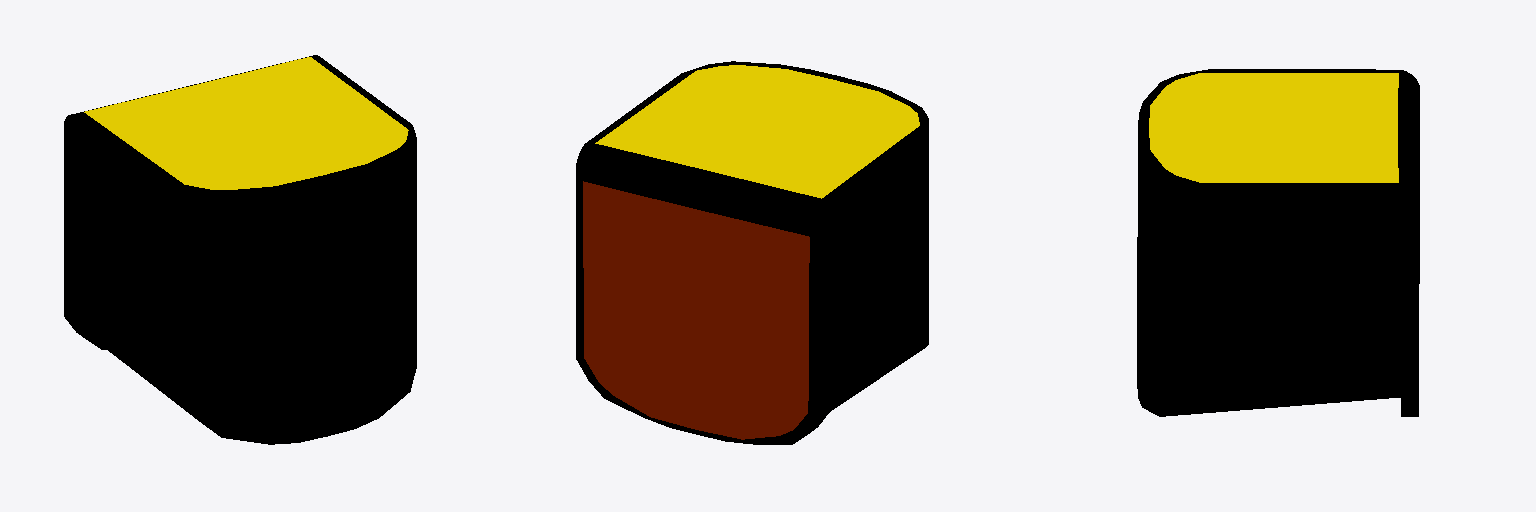
File: edgeYO.obj
3 views of the same model, side by side, from view 1: azimuth 30°, elevation 25°; view 2: azimuth 150°, elevation 25°; view 3: azimuth 270°, elevation 25° (orthographic).
Parts seen in each view (by area): view 1: BasicEdge_Plane.006, EdgeSide1_Plane.008; view 2: EdgeSide2_Plane.009, BasicEdge_Plane.006, EdgeSide1_Plane.008; view 3: BasicEdge_Plane.006, EdgeSide1_Plane.008.
Boxes of the visible parts, box(x1,y1,x2,y2) form: BasicEdge_Plane.006: box(64, 55, 416, 444); EdgeSide1_Plane.008: box(84, 57, 408, 189); EdgeSide2_Plane.009: box(583, 181, 809, 439); BasicEdge_Plane.006: box(576, 61, 928, 444); EdgeSide1_Plane.008: box(595, 65, 919, 198); BasicEdge_Plane.006: box(1137, 69, 1419, 416); EdgeSide1_Plane.008: box(1149, 73, 1398, 182).
Bounding box in the file's own units: 0.18 × 0.1802 × 0.182.